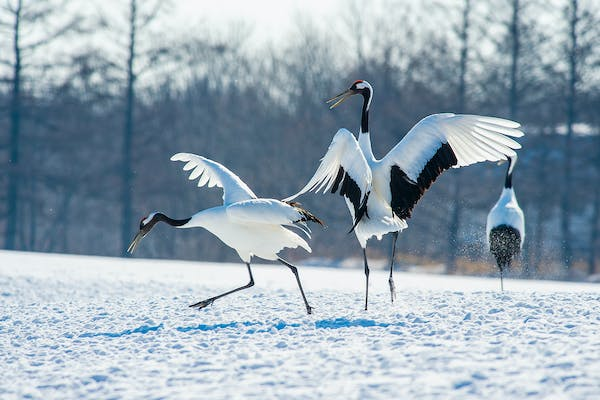Walking: (99, 80, 579, 338)
